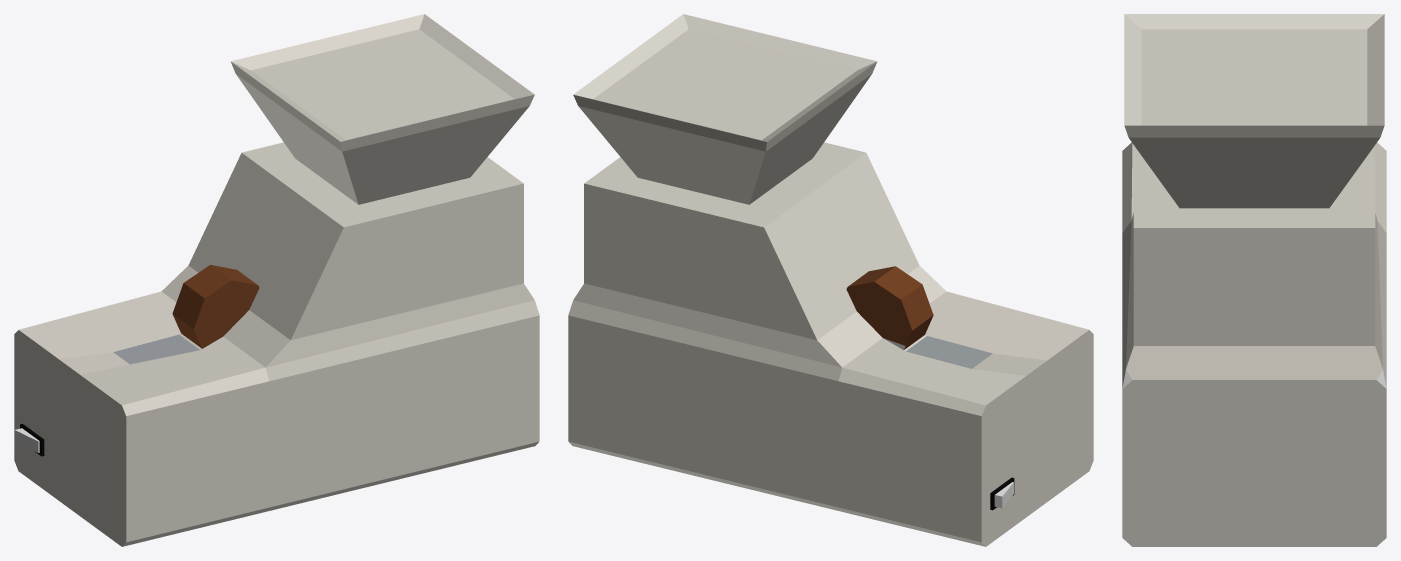
File: FACETADORA MANUAL ( MENOR).fbx
3 renders of one model, left to right at view 1: azimuth 30°, elevation 25°; view 2: azimuth 150°, elevation 25°; view 3: azimuth 270°, elevation 25°, orthographic. The views are drawn at different scales.
Visible parts, largest first — view 1: FACETADORA MANUAL; view 2: FACETADORA MANUAL; view 3: FACETADORA MANUAL.
Part boxes in pixels (bbox=[...]): FACETADORA MANUAL: bbox=[14, 14, 539, 546]; FACETADORA MANUAL: bbox=[568, 14, 1093, 546]; FACETADORA MANUAL: bbox=[1122, 14, 1386, 546].
Size of the model in its own units: 4.37 by 3.5 by 2.
